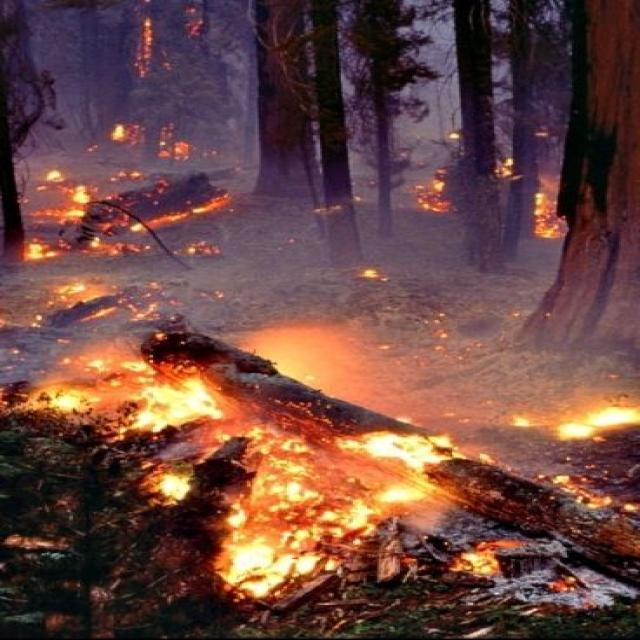Fire: (14, 357, 462, 609)
Smoke: (0, 2, 631, 500)
